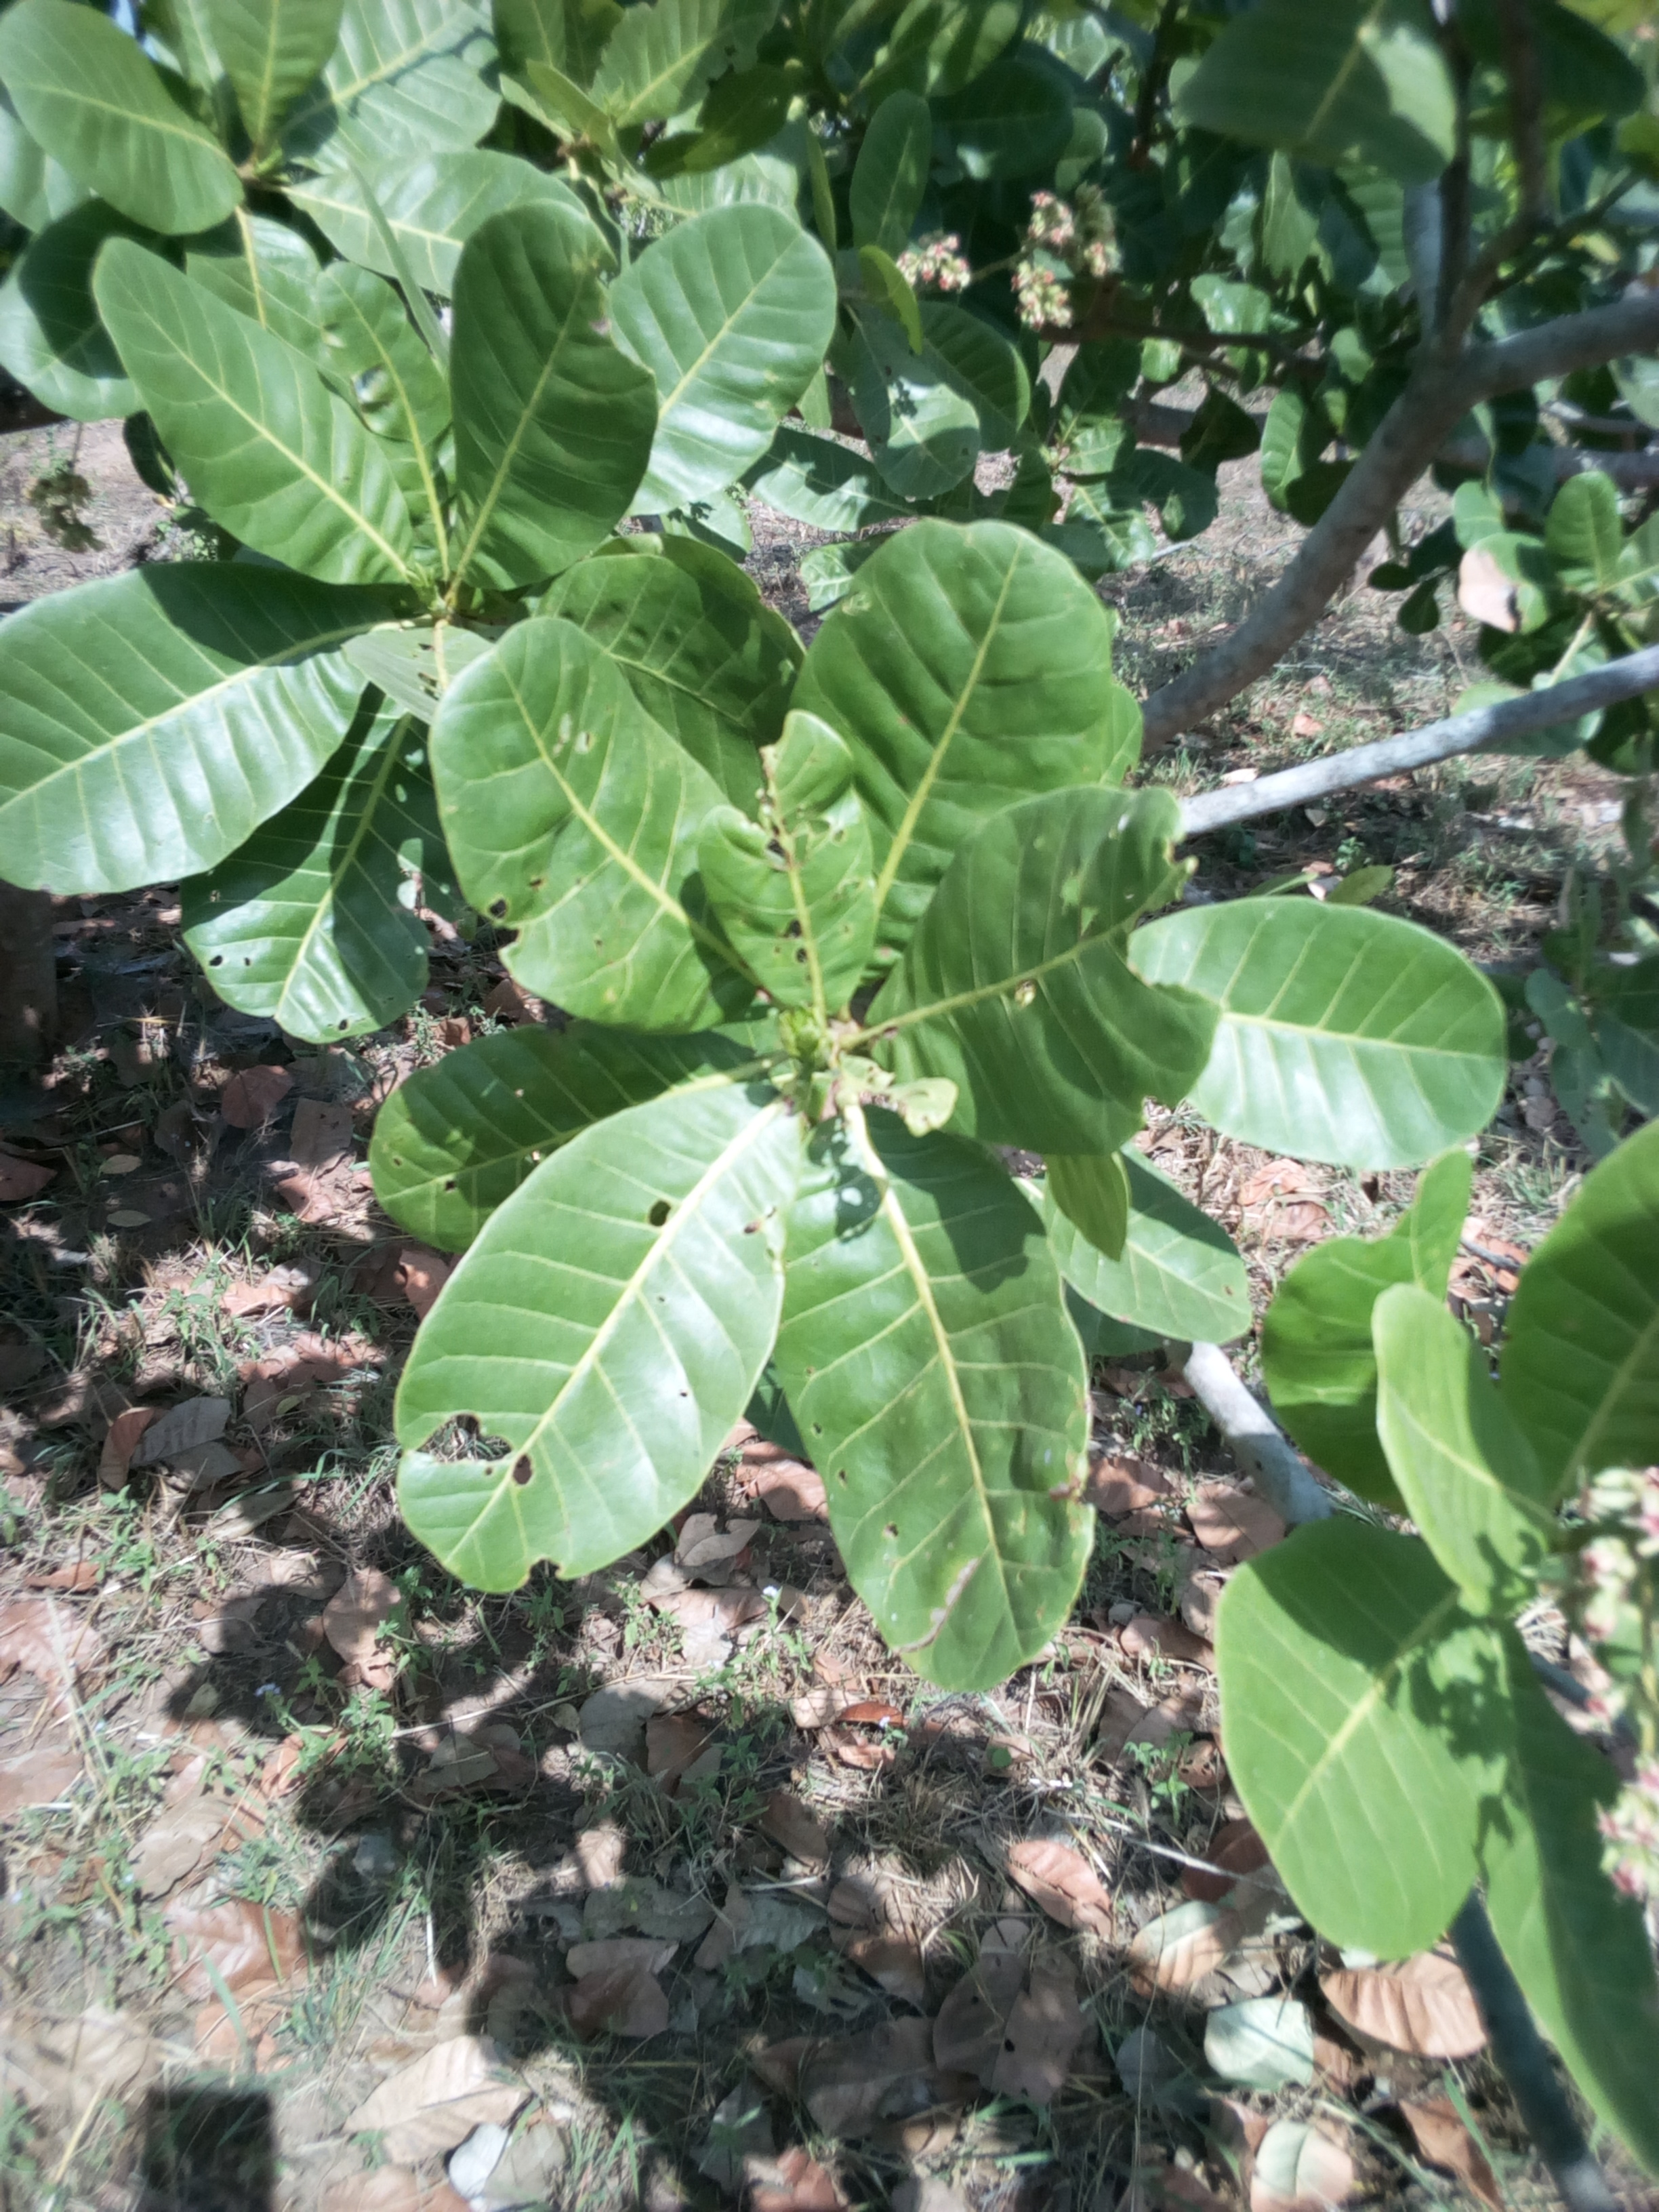Anoplocnemis curvipes: (396, 1096, 793, 1573), (453, 629, 697, 1017), (714, 719, 870, 1021)
